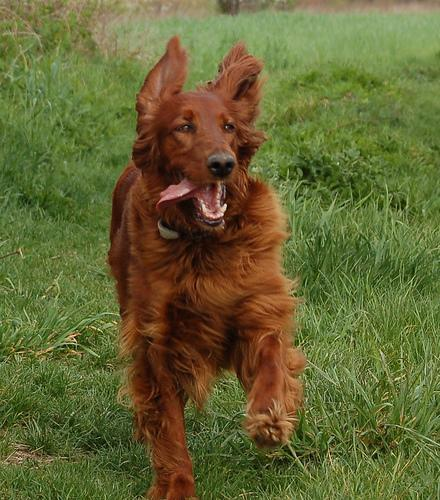Irish_setter: (105, 32, 306, 498)
